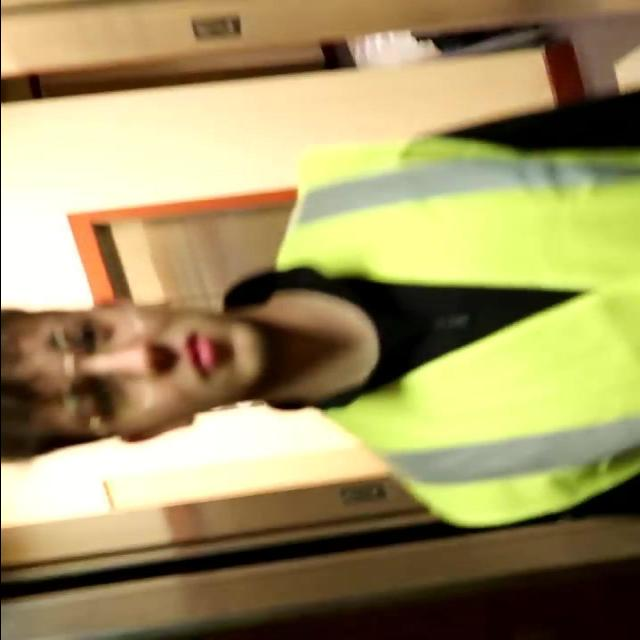jacket: (255, 119, 640, 532)
